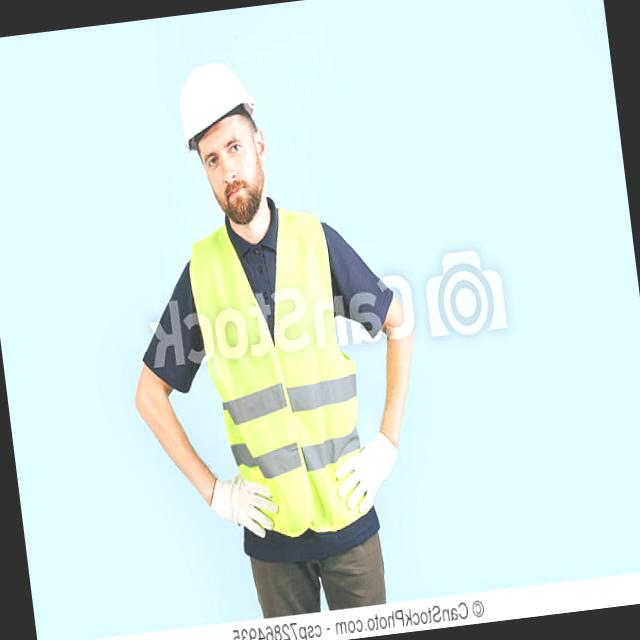helmet: (172, 59, 255, 150)
no-goggles: (196, 129, 270, 177)
vest: (200, 199, 369, 538)
